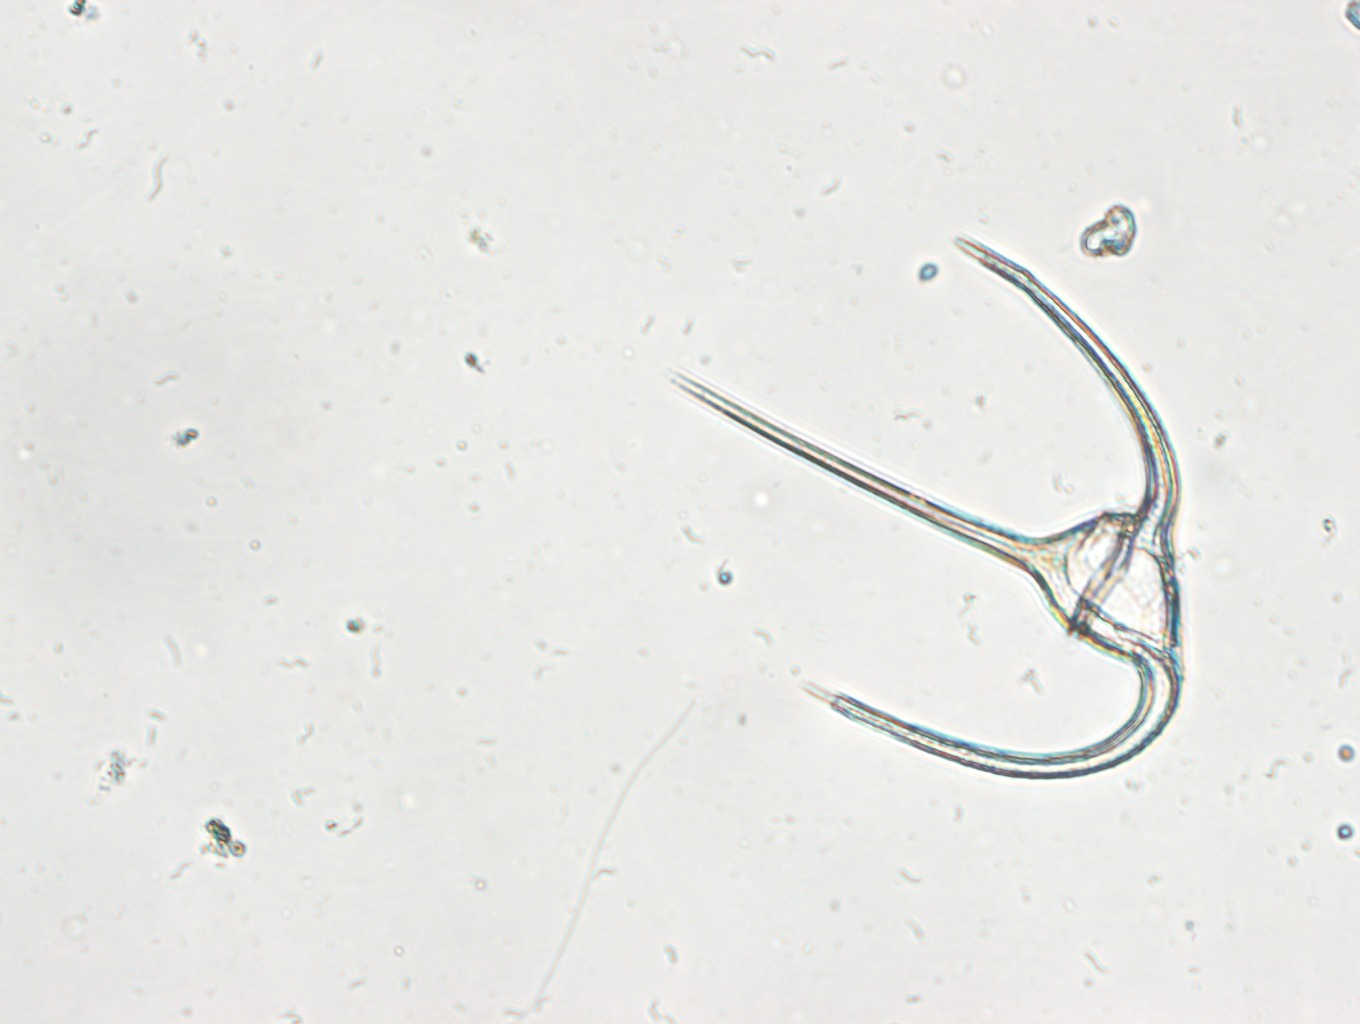ceratium trichoceros: (656, 229, 1191, 790)
